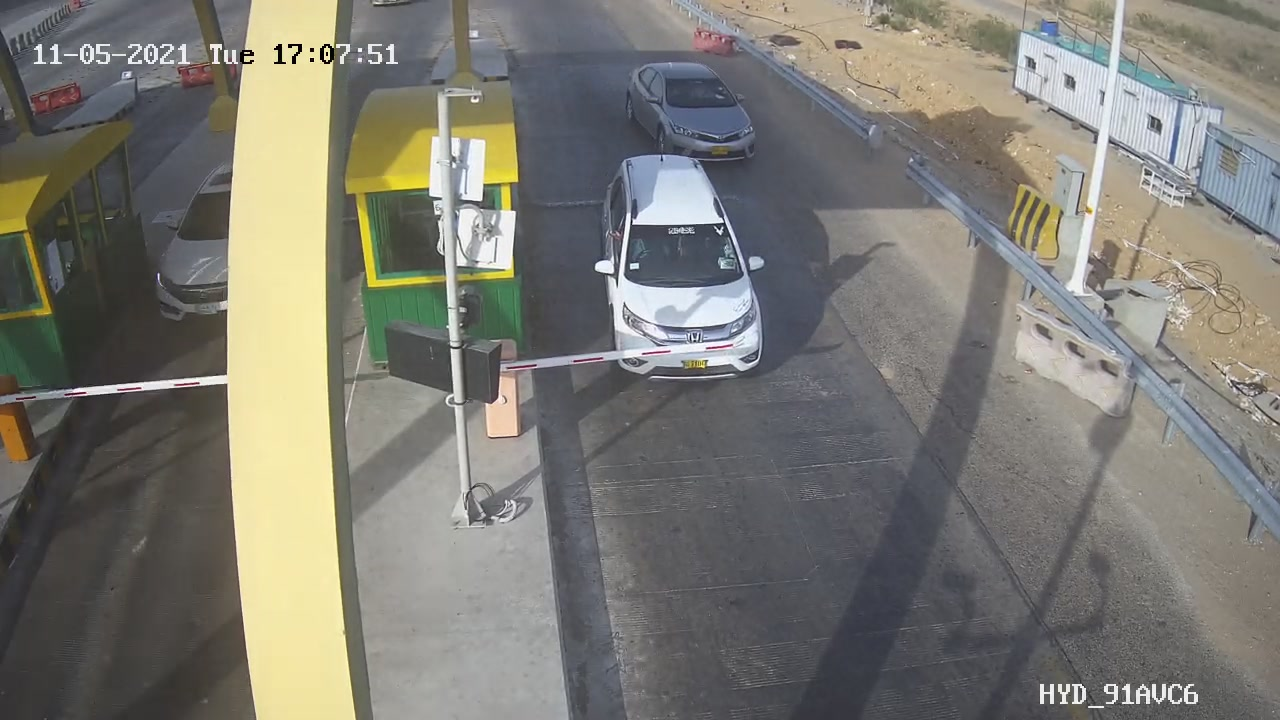F1: (578, 138, 796, 399), (611, 44, 781, 185)
